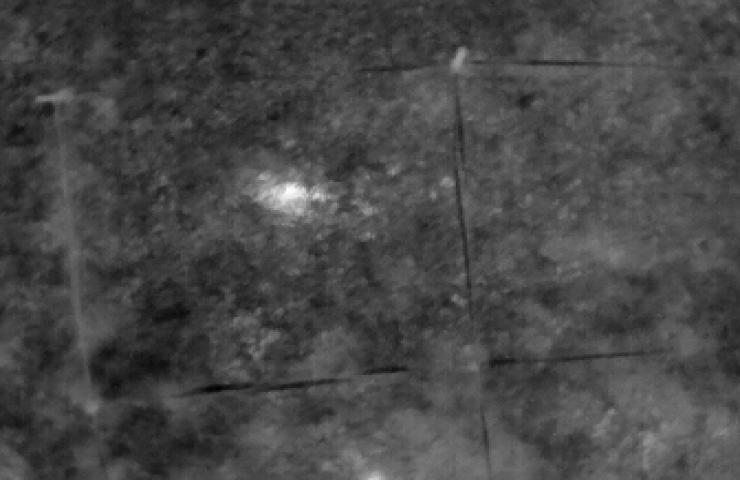landmines: (261, 179, 317, 214)
